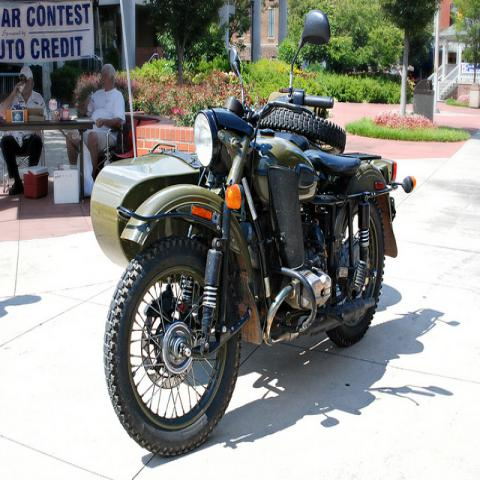motorcycle: (103, 6, 418, 464)
